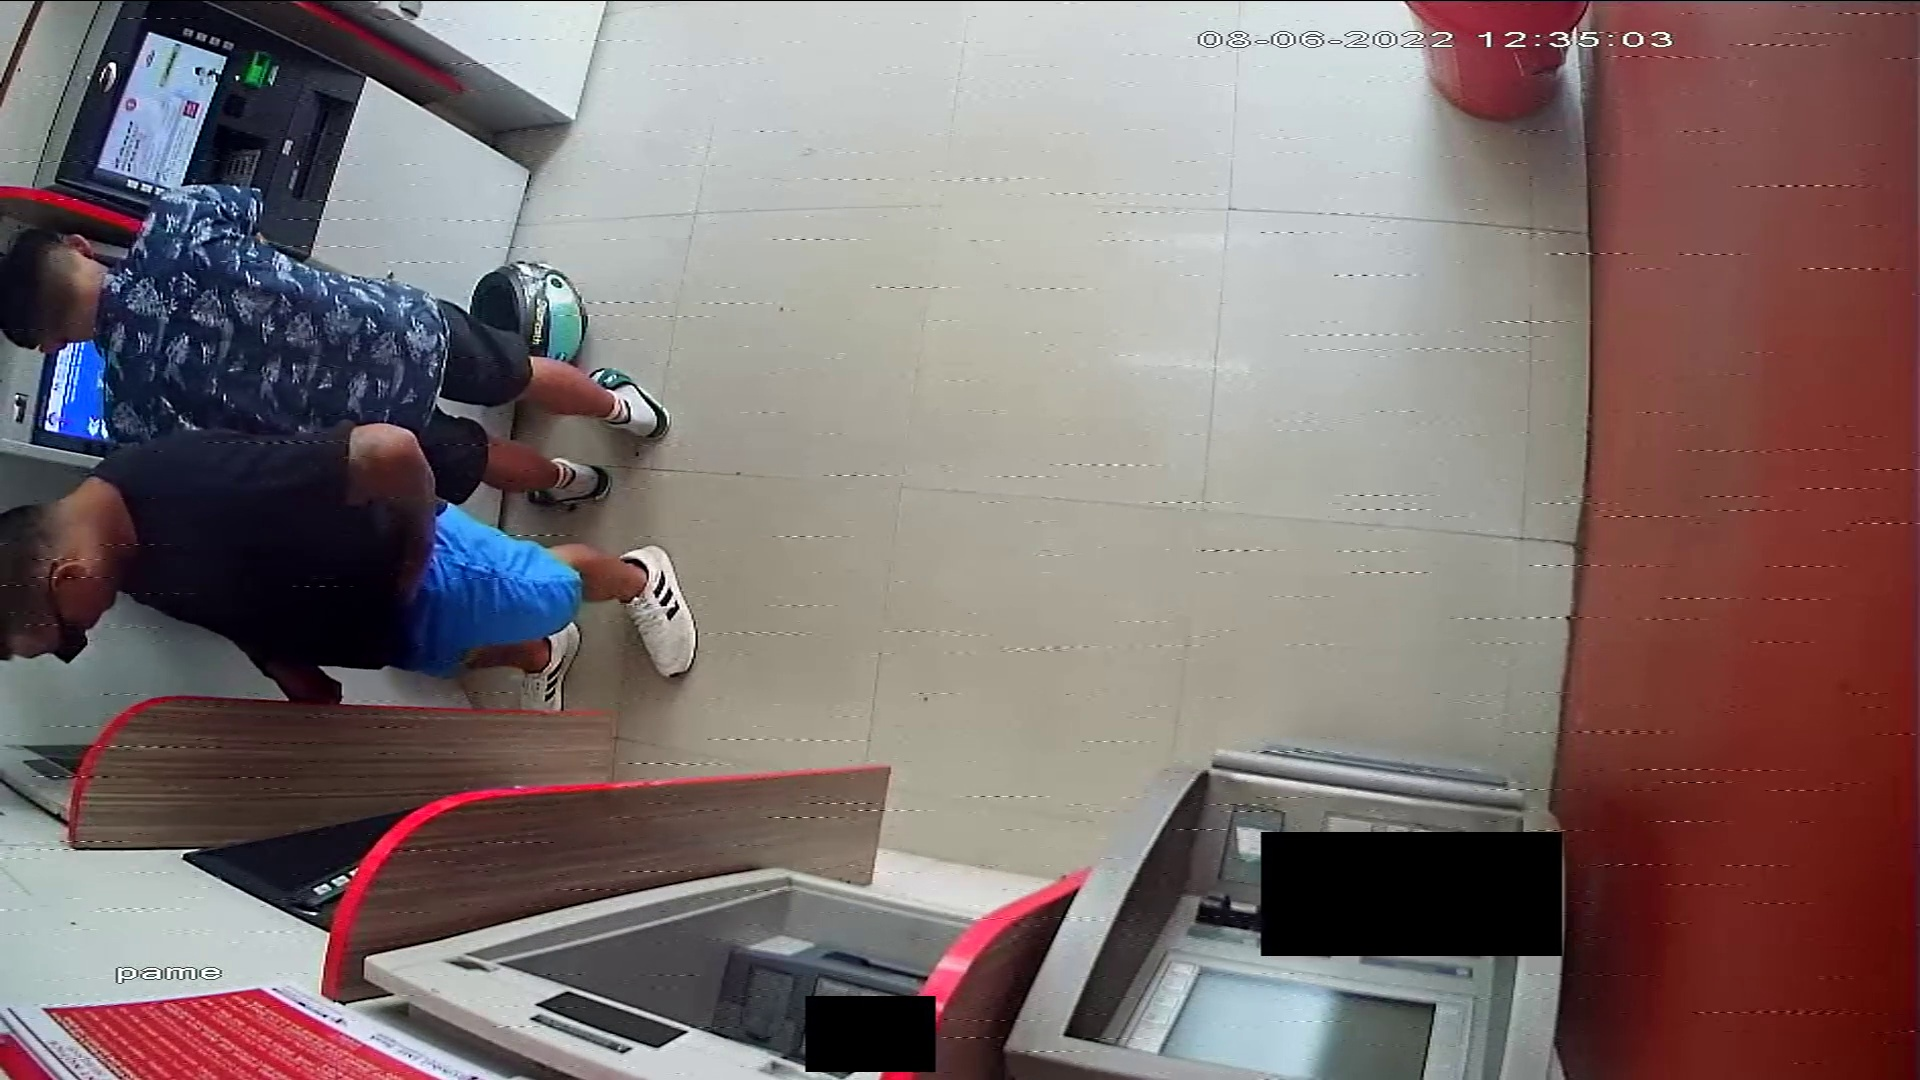helmet: (469, 264, 589, 378)
person: (1, 180, 671, 510), (1, 424, 703, 710)
